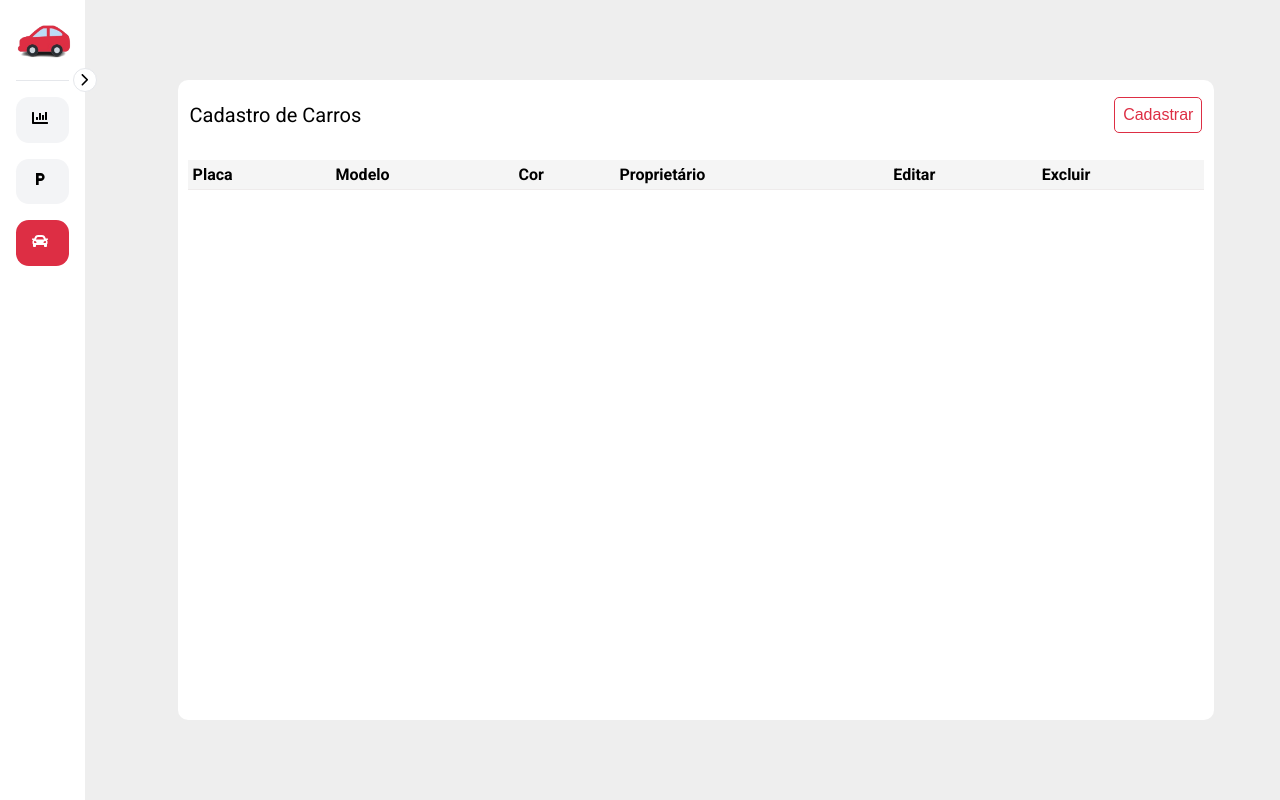
Scenario: Página de Cadastro de Veículos › Deve abrir o modal de cadastro de veículos ao clicar no botão "Cadastrar"
Note: Clicar no botão "Cadastrar"
Click the button with class "new" at [1158, 115], box [1114,97,1202,133]
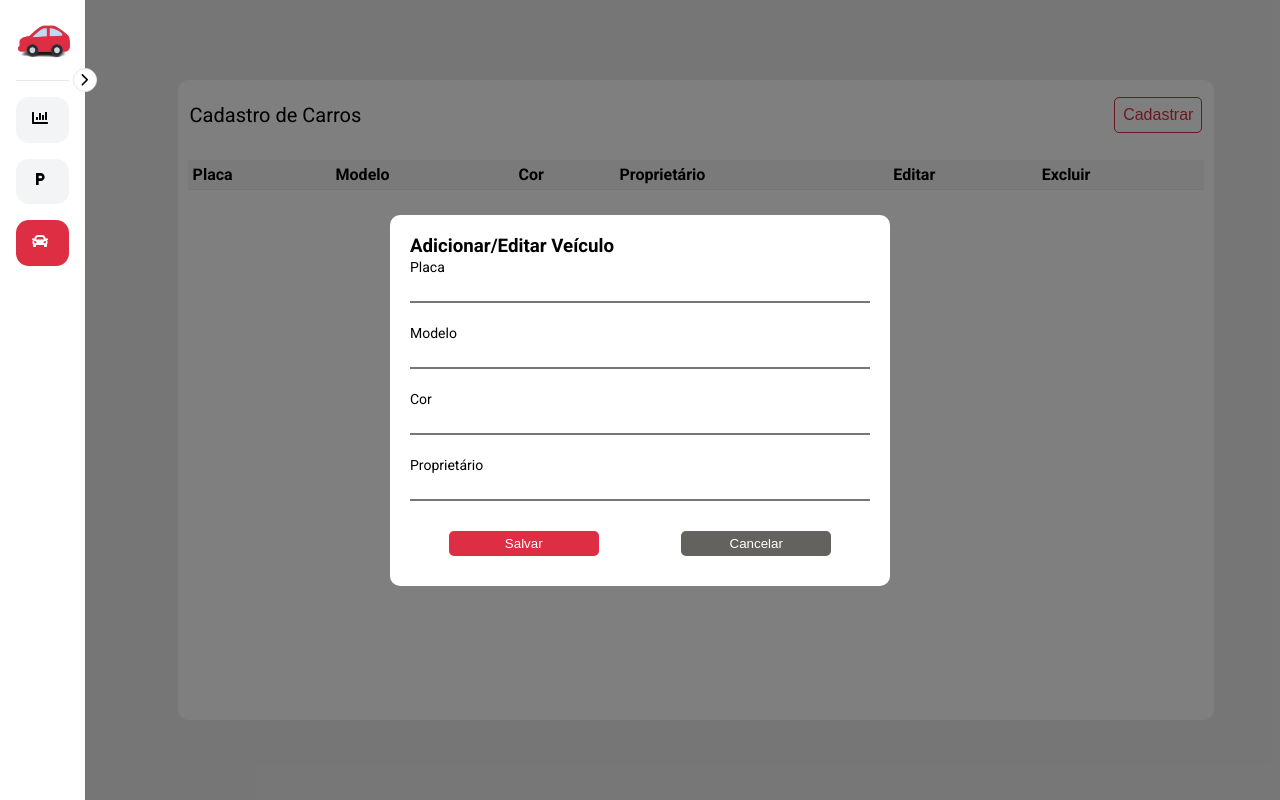
expect the element with class "modal-container" is shown: met
expect the heading "Adicionar/Editar Veículo" is shown: met, box [410,234,614,256]
